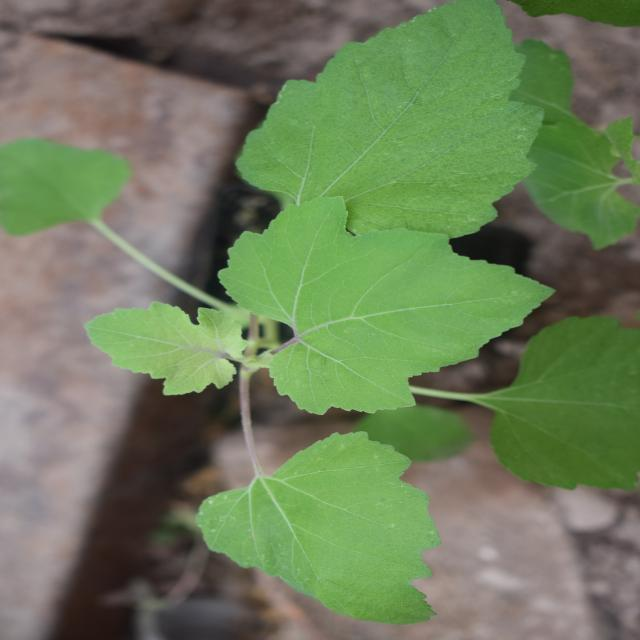cocklebur: (48, 75, 634, 542)
